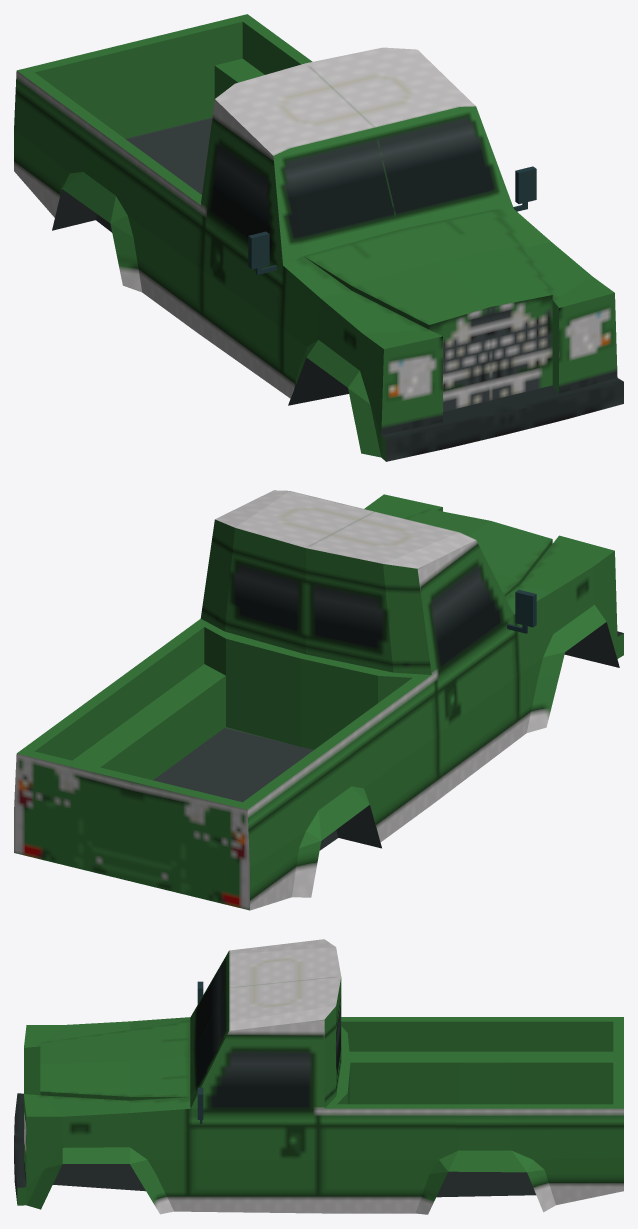
The model's file is landrover.obj.
The picture shows the model from 3 angles, top to bottom: view 1: azimuth 30°, elevation 25°; view 2: azimuth 150°, elevation 25°; view 3: azimuth 270°, elevation 25°; orthographic projection. The views are drawn at different scales.
Parts seen in each view (by area): view 1: landrover; view 2: landrover; view 3: landrover.
Part boxes in pixels (x1,y1,x2,y2): landrover: (14,14,623,461); landrover: (14,490,623,910); landrover: (14,939,623,1214).
Size of the model in its own units: 1.92 by 1.51 by 4.38.
Materials: 1 (1 with a texture image).
